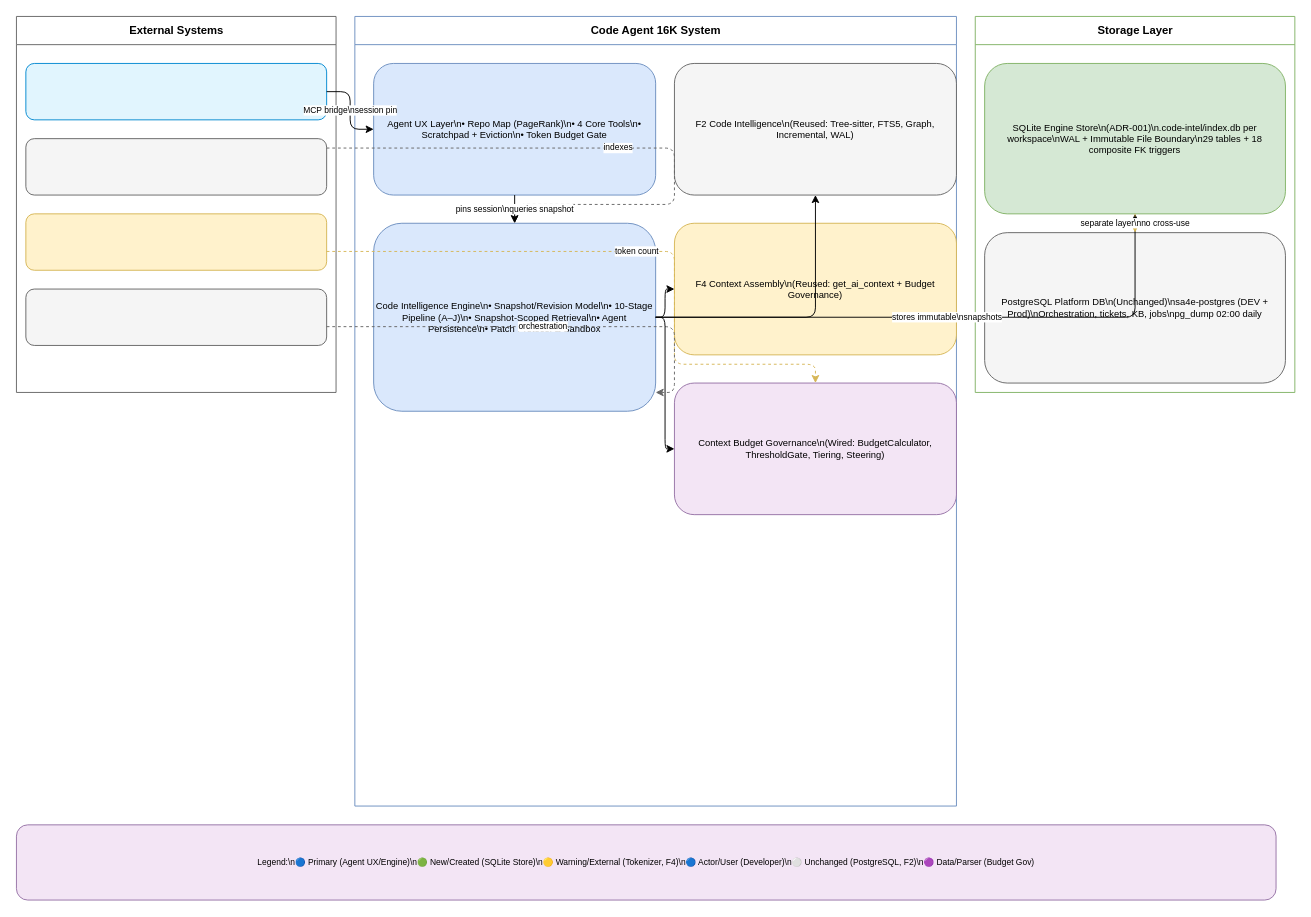
Some shapes in this 1311 by 917 pixel diagram are drawn without their labels. Each missing label, with the centre of its shape:
Developer\n(VS Code Extension): [176,91]
Git Repository\n(commits, branches, tags): [176,166]
llama.cpp\n/tokenize endpoint: [176,241]
PostgreSQL\n(Platform DB: tickets, KB, jobs): [176,316]
